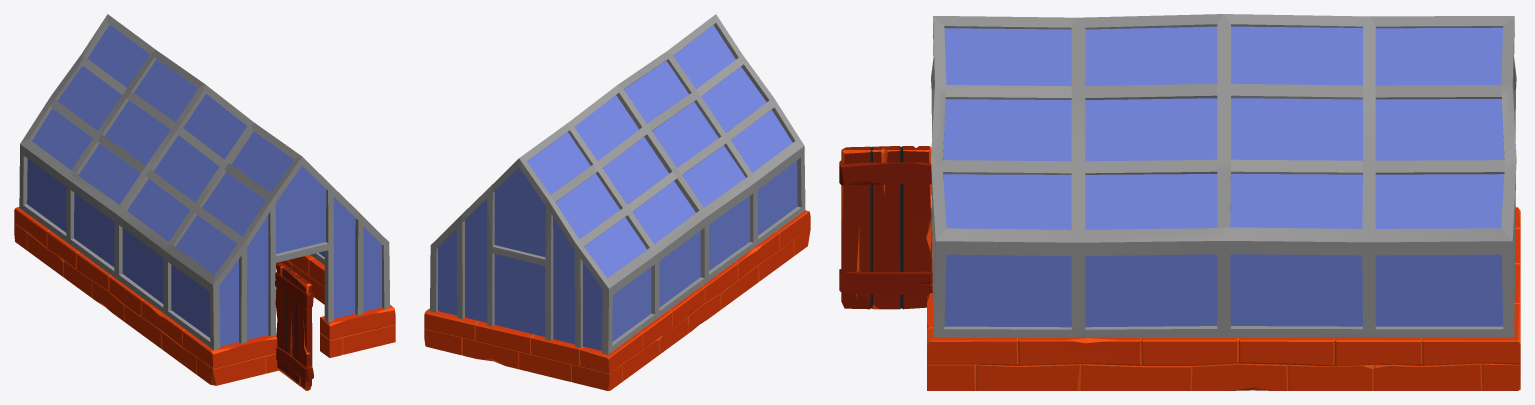
The model's file is GreenHouse.001_1.fbx.
3 views of the same model, side by side, from view 1: azimuth 30°, elevation 25°; view 2: azimuth 150°, elevation 25°; view 3: azimuth 270°, elevation 25° (orthographic). The views are drawn at different scales.
Parts seen in each view (by area): view 1: GreenHouse_001_1; view 2: GreenHouse_001_1; view 3: GreenHouse_001_1.
Part boxes in pixels (x1,y1,x2,y2): GreenHouse_001_1: [14, 14, 395, 390]; GreenHouse_001_1: [424, 14, 810, 390]; GreenHouse_001_1: [839, 14, 1520, 390].
Size of the model in its own units: 125 by 136 by 271.
